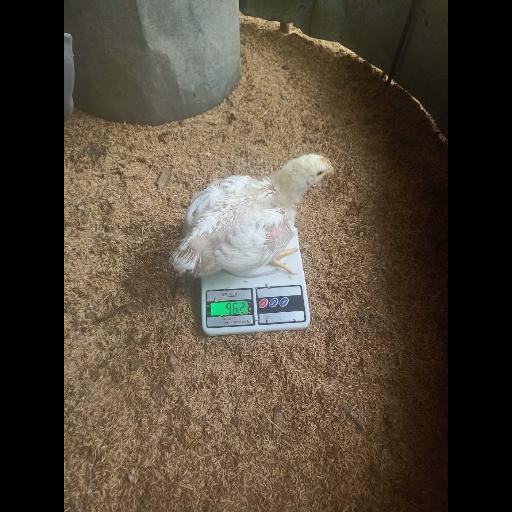chick: (168, 154, 337, 276)
